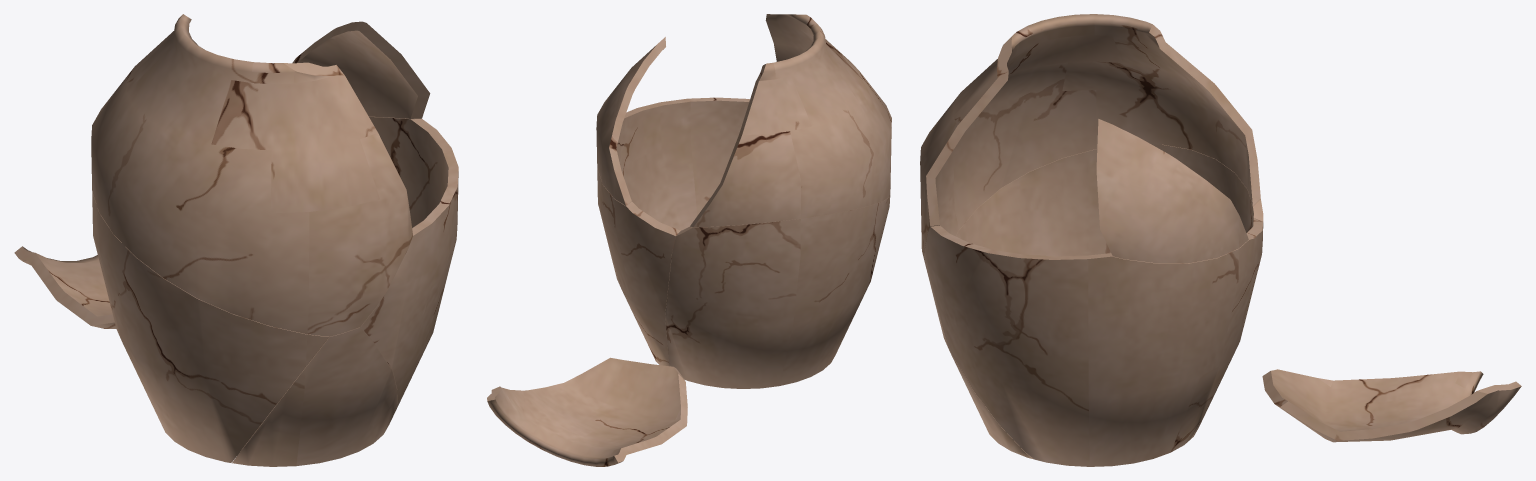
File: Jarrón I Roto.fbx
The picture shows the model from 3 angles, left to right: view 1: azimuth 30°, elevation 25°; view 2: azimuth 150°, elevation 25°; view 3: azimuth 270°, elevation 25°; orthographic projection. The views are drawn at different scales.
Visible parts, largest first — view 1: Jarrón I Roto; view 2: Jarrón I Roto; view 3: Jarrón I Roto.
Part boxes in pixels (x1,y1,x2,y2): Jarrón I Roto: (14,14,458,466); Jarrón I Roto: (487,14,891,466); Jarrón I Roto: (920,14,1521,466).
Size of the model in its own units: 177 by 209 by 309.
Materials: 1 (1 with a texture image).
